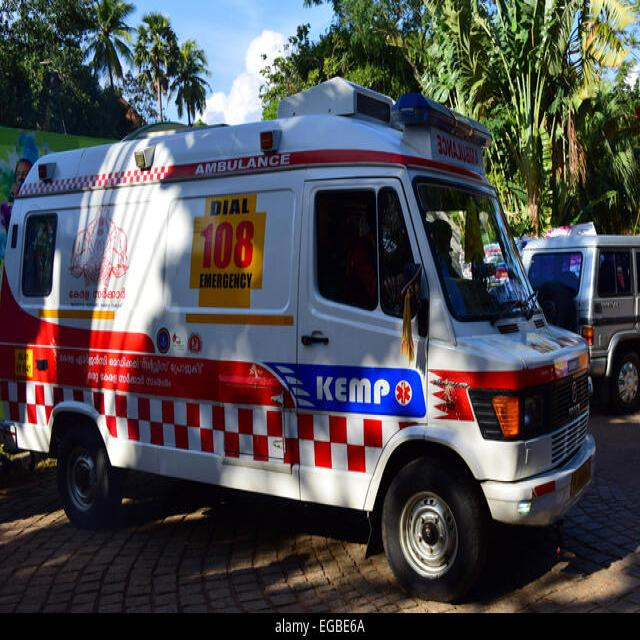emergency: (0, 77, 595, 599)
